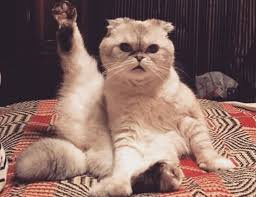Gato: (98, 5, 196, 148)
